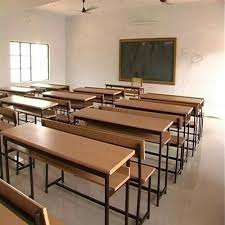Bench: (14, 126, 164, 209), (82, 101, 192, 156), (26, 87, 126, 137)
